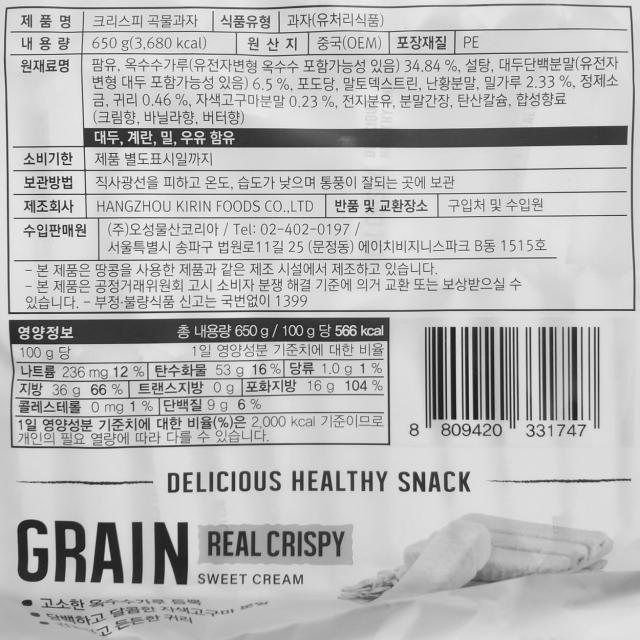Nutrition Label: (6, 317, 401, 461)
